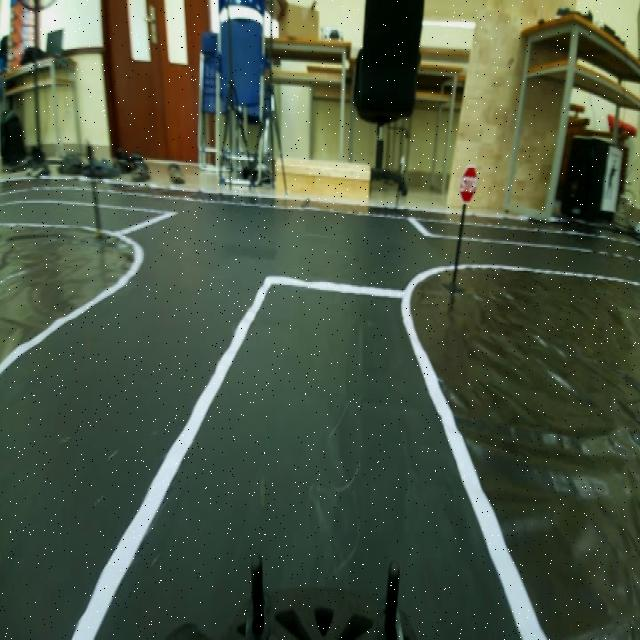stop: (456, 158, 483, 211)
